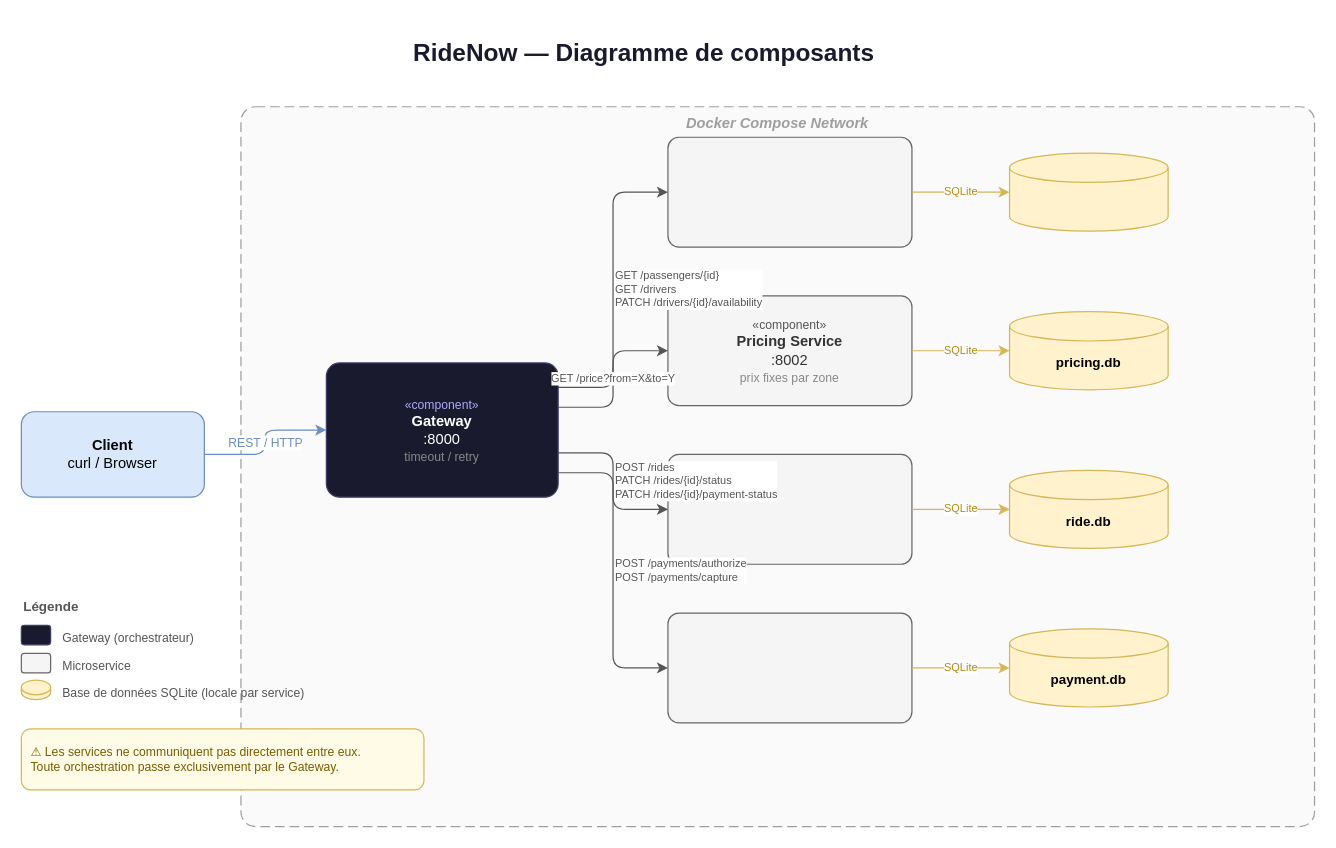
Image size: 1336x848. Some labels were removed from this diagram. Each missing label, with the centre of its shape:
identity.db: point (1088, 191)
«component» Identity Service :8001 drivers · passengers: point (789, 191)
«component» Payment Service :8004 authorize · capture (mock): point (789, 667)
«component» Ride Service :8003 cycle de vie · machine d'état: point (789, 508)
